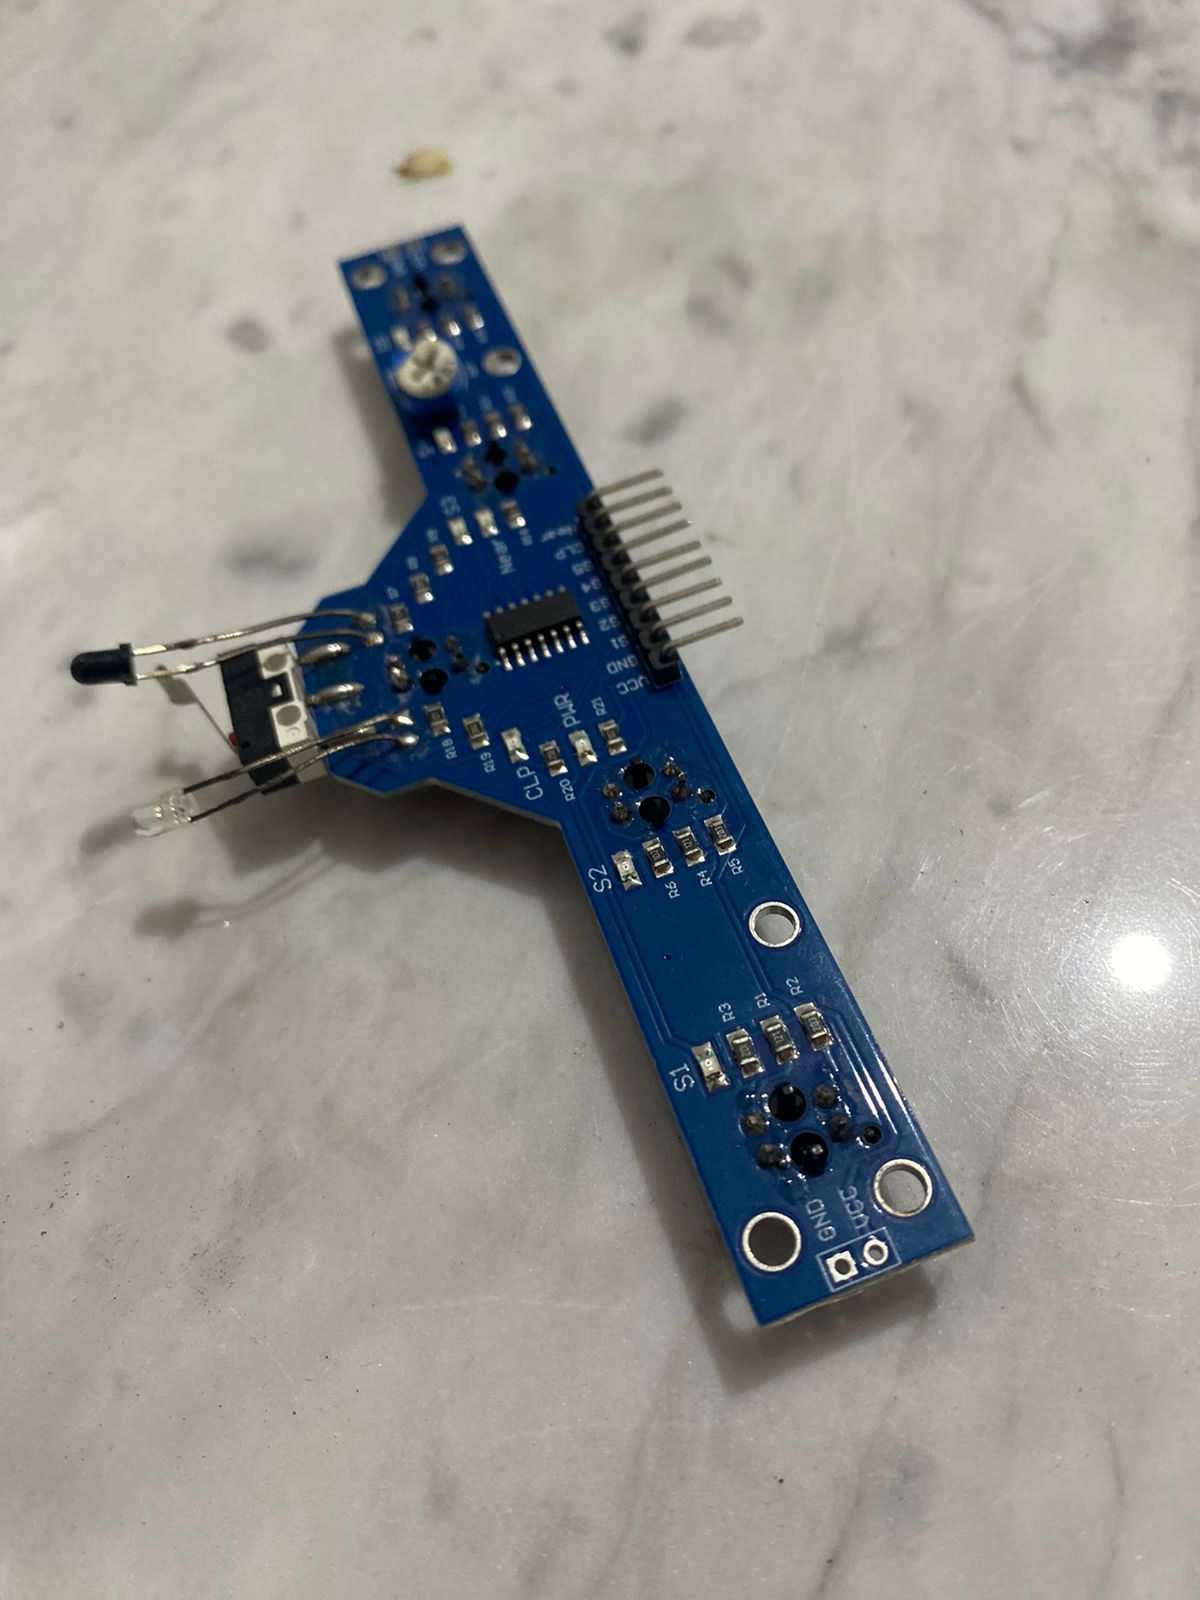Capteur-IR-5 Voies: (69, 222, 974, 1310)
